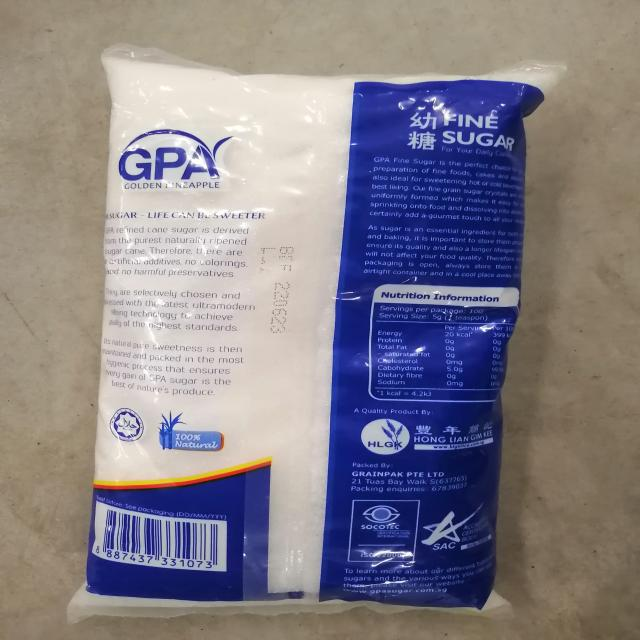object_name: (112, 62, 491, 609)
